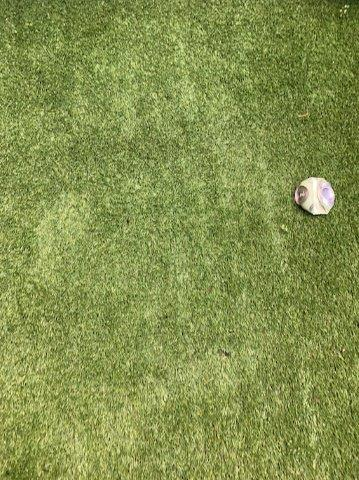kaleng: (295, 177, 335, 214)
